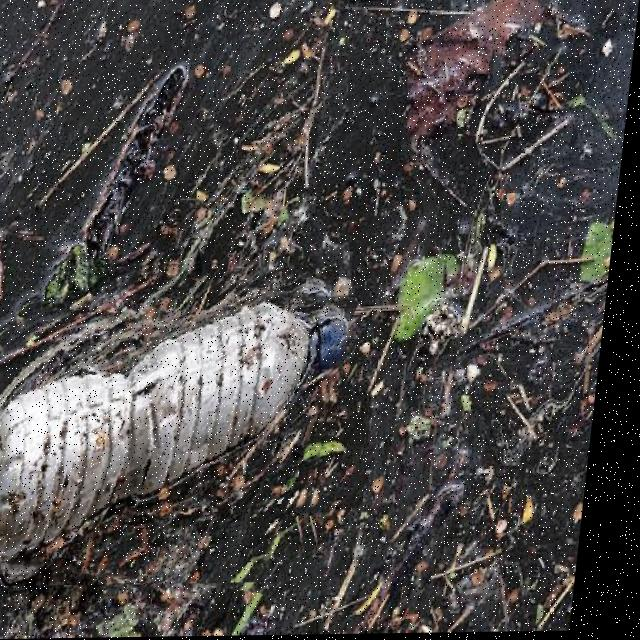litter: (0, 258, 358, 587)
